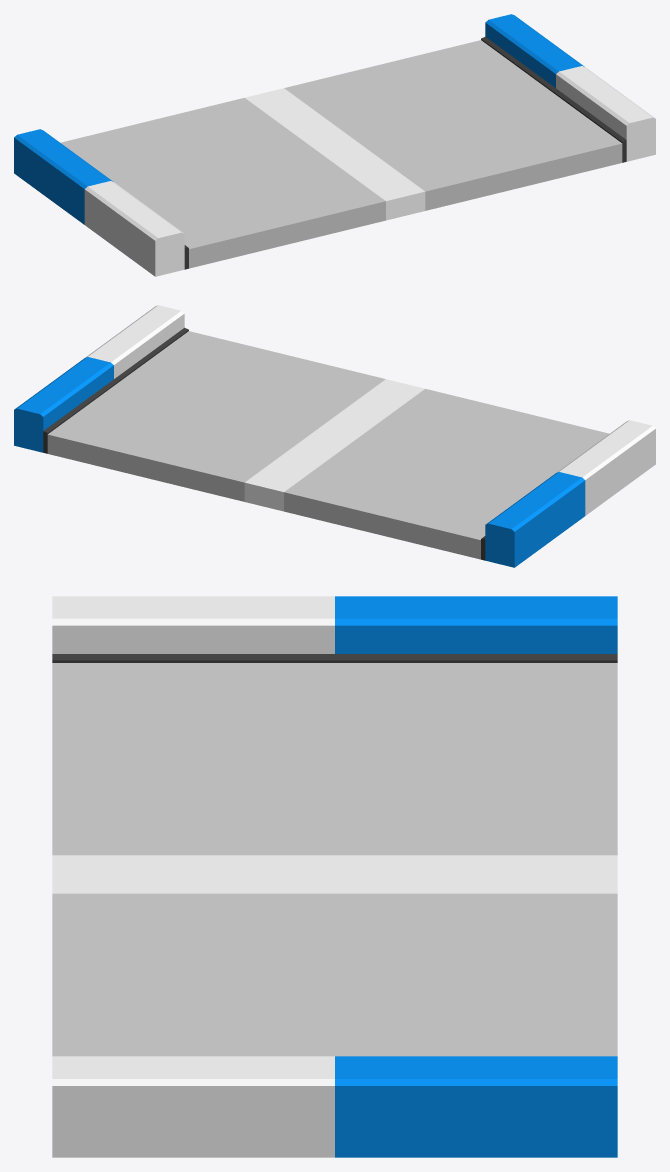
The model's file is Street.fbx.
3 views of the same model, one above another, from view 1: azimuth 30°, elevation 25°; view 2: azimuth 150°, elevation 25°; view 3: azimuth 270°, elevation 25° (orthographic). The views are drawn at different scales.
Parts seen in each view (by area): view 1: Cube.292; view 2: Cube.292; view 3: Cube.292.
Part boxes in pixels (bbox=[...]): Cube.292: bbox=[14, 14, 655, 276]; Cube.292: bbox=[14, 305, 655, 567]; Cube.292: bbox=[52, 596, 617, 1157].
Size of the model in its own units: 17.29 by 1.25 by 8.45.
